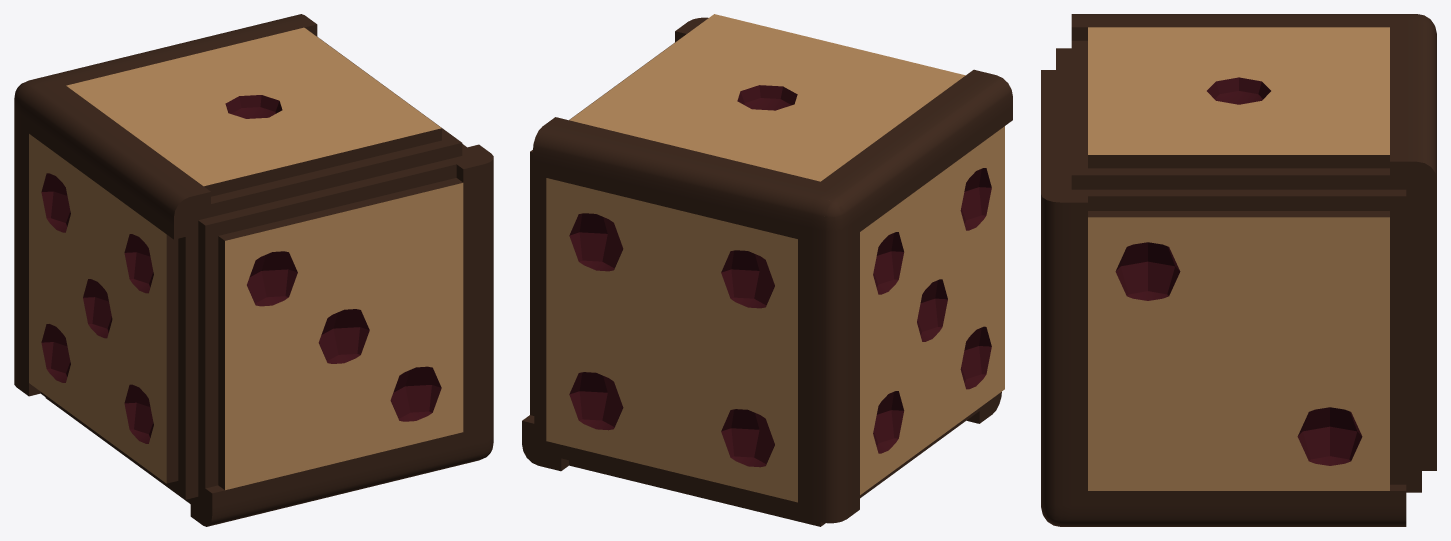
Rendered from bellows_d6.glb.
The picture shows the model from 3 angles, left to right: view 1: azimuth 30°, elevation 25°; view 2: azimuth 150°, elevation 25°; view 3: azimuth 270°, elevation 25°; orthographic projection. The views are drawn at different scales.
Visible parts, largest first — view 1: BellowsD6; view 2: BellowsD6; view 3: BellowsD6.
Boxes of the visible parts, <box> form: BellowsD6: <box>14,14,493,526</box>; BellowsD6: <box>522,14,1012,526</box>; BellowsD6: <box>1041,14,1436,526</box>.
Bounding box in the file's own units: 0.08 × 0.08 × 0.08.
